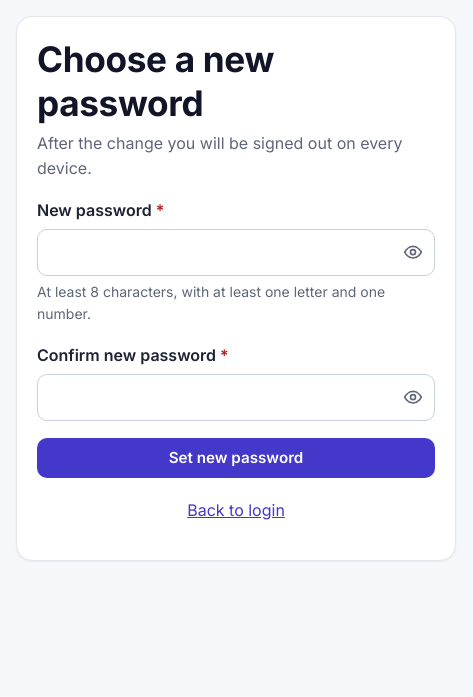
ResetPasswordPage › shows the server's message for an expired or used link
Type "NewPass456" into the password field labelled "New password *" at (236, 252), box [37,229,435,276]
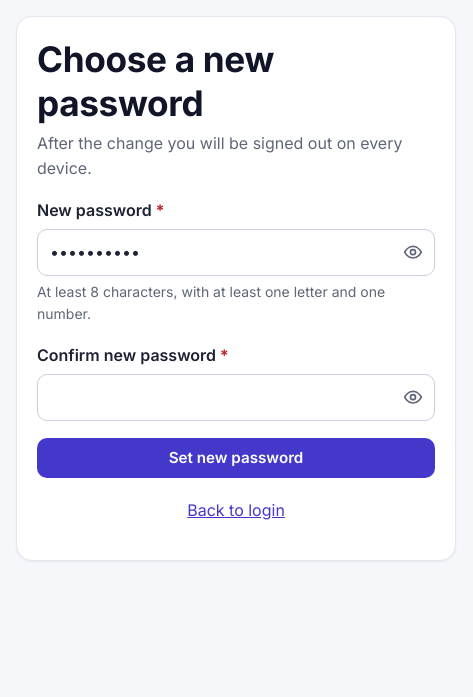
Type "NewPass456" into the password field labelled "Confirm new password *" at (236, 398), box [37,374,435,421]
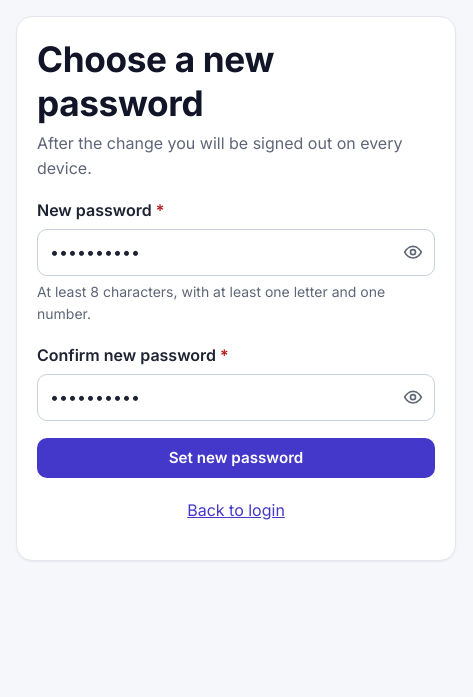
Click the button "Set new password" at (236, 458), box [37,438,435,478]
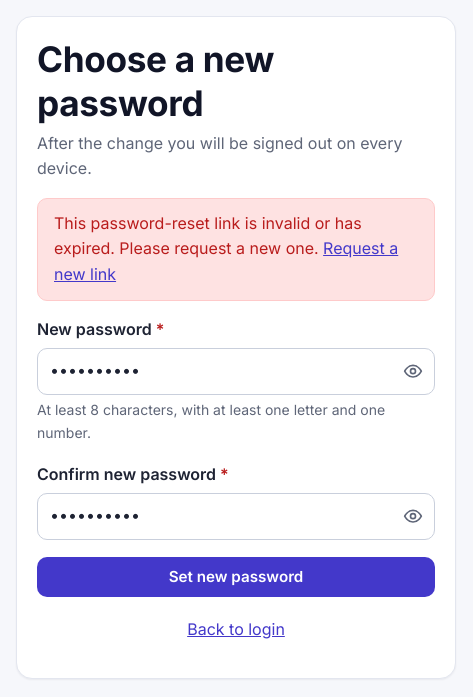
Result: the message shows "invalid or has expired" at [54,213,362,258]
